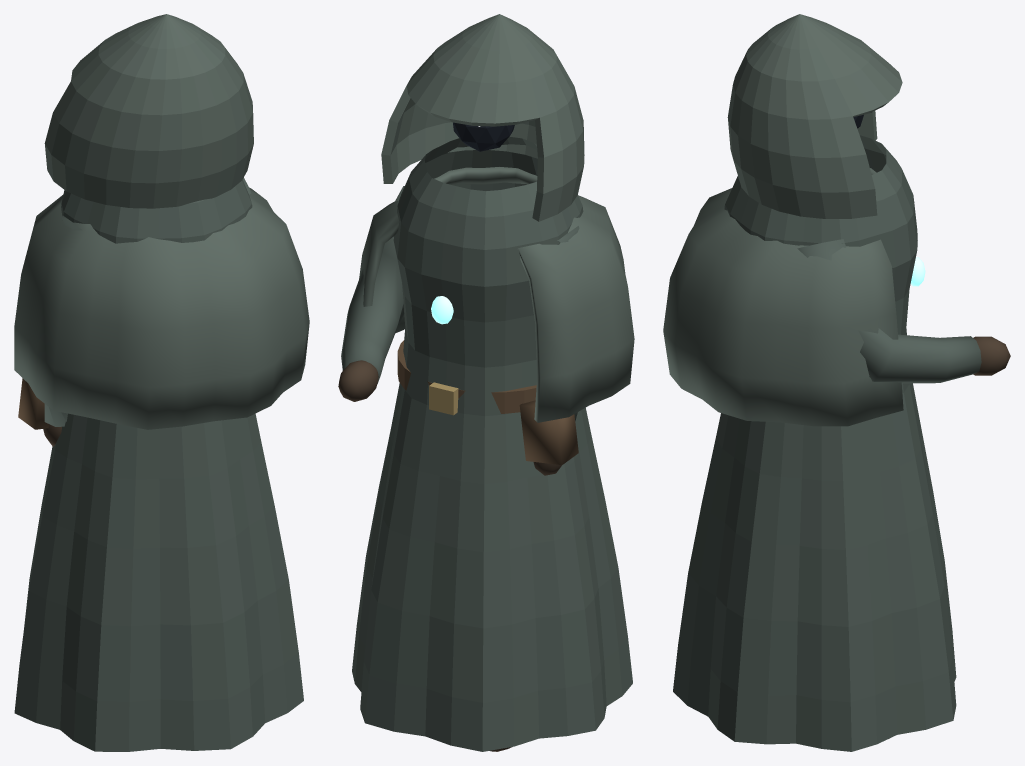
Rendered from seeker.glb.
3 renders of one model, left to right at view 1: azimuth 30°, elevation 25°; view 2: azimuth 150°, elevation 25°; view 3: azimuth 270°, elevation 25°, orthographic. The views are drawn at different scales.
Visible parts, largest first — view 1: Seeker; view 2: Seeker; view 3: Seeker.
Boxes of the visible parts, x1=… form: Seeker: x1=14, y1=14, x2=309, y2=751; Seeker: x1=338, y1=14, x2=634, y2=751; Seeker: x1=663, y1=14, x2=1010, y2=751.
Size of the model in its own units: 0.6537 by 1.8 by 0.7955.
